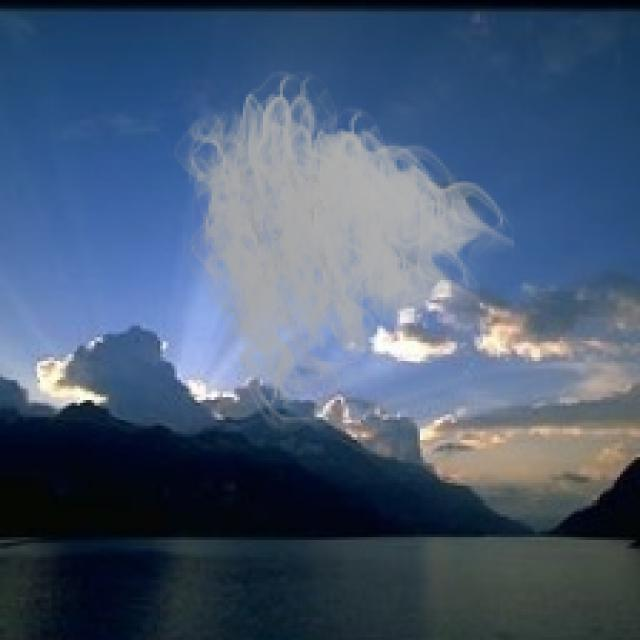Smoke: (166, 60, 514, 437)
